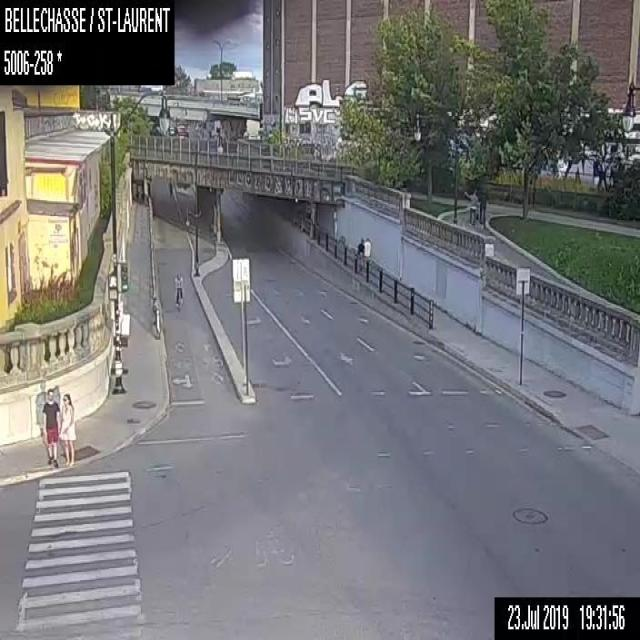cyclist: (175, 272, 182, 310)
pedestrian: (41, 388, 60, 467), (59, 392, 76, 464), (463, 188, 478, 225), (477, 189, 487, 228), (356, 237, 364, 253), (364, 237, 370, 256)
